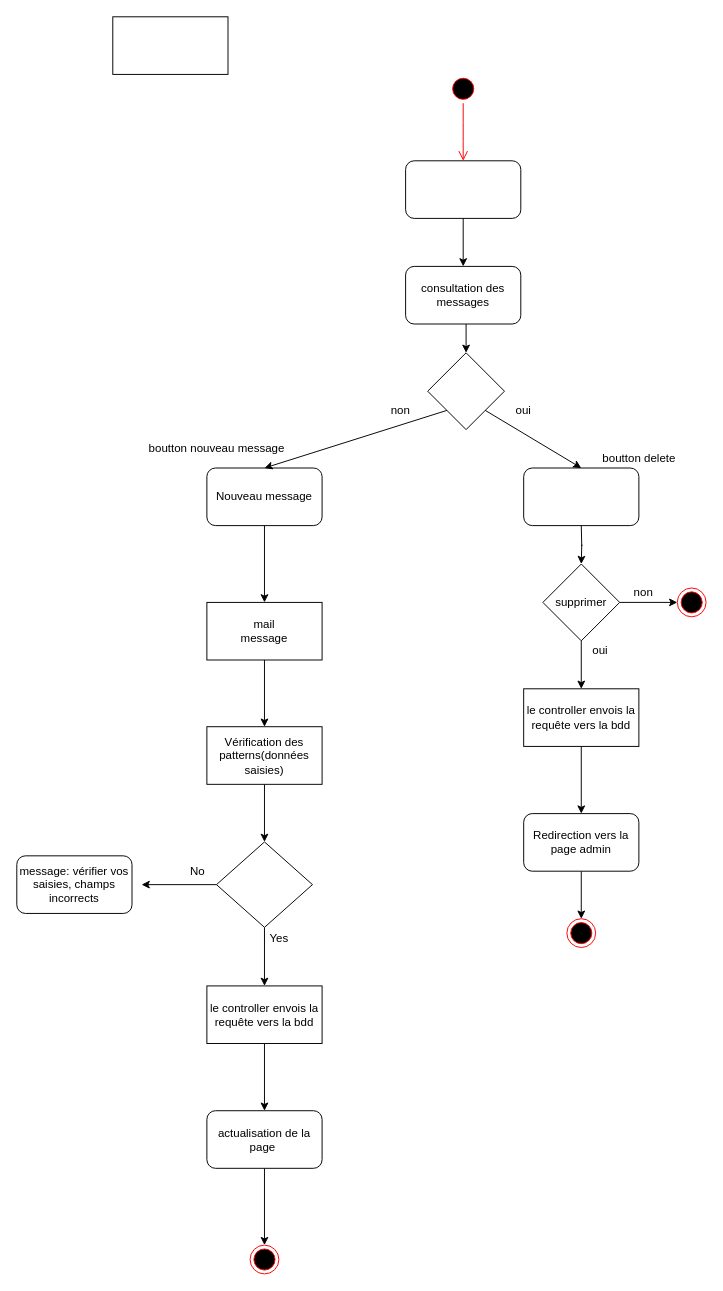
Some shapes in this 723 by 1291 pixel diagram are drawn without their labels. The centre of each missing label's shape, as x and y in pixels:
accueil membre consultation message: pixel 170 45
delete: pixel 465 391
message: Êtes-vous sûr de vouloir supprimer?: pixel 581 496
page d'accueil membre: pixel 463 189
Si les données sont valident: pixel 264 884
